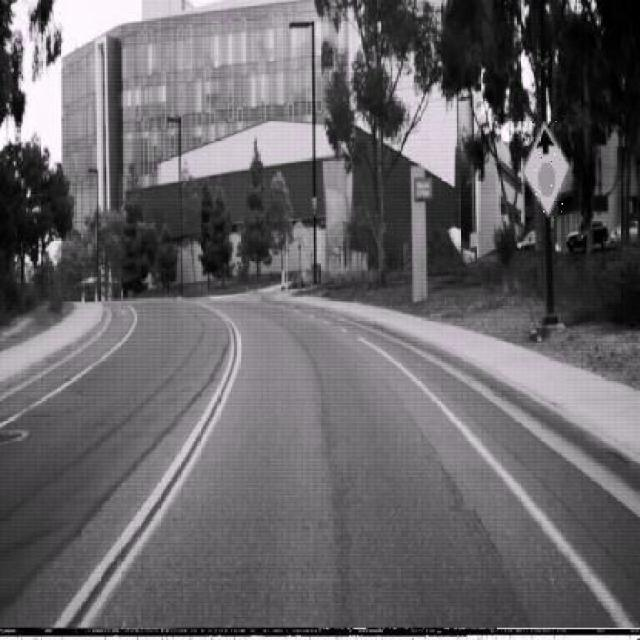stop: (292, 220, 304, 245)
stopAhead: (522, 119, 570, 218)
